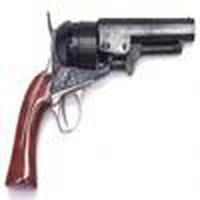gun: (5, 12, 200, 191)
